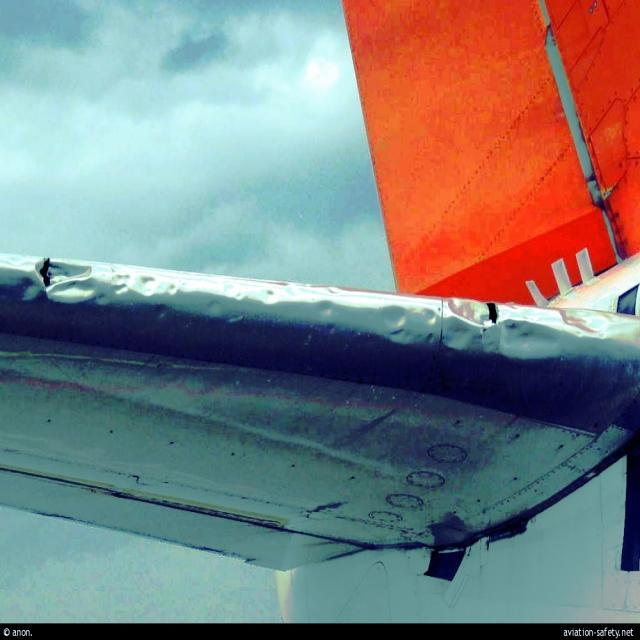dent: (34, 256, 620, 365)
